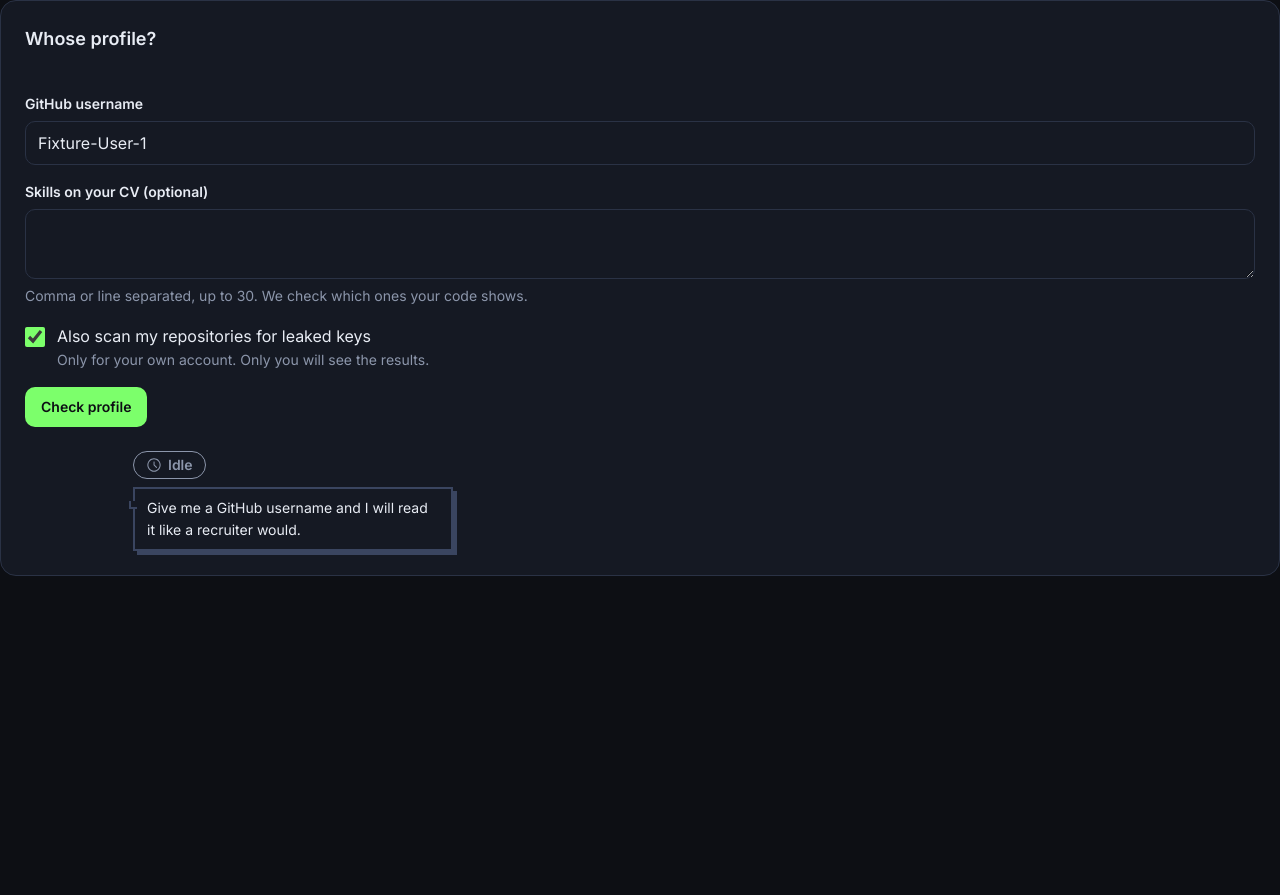
RecruiterTool › offers the secret scan only for the member’s own account and asks for it by default
Expected: the field labelled "GitHub username" holds "Fixture-User-1", [25,121,1255,165]
Expected: the checkbox labelled "Also scan my repositories" is checked, [25,327,45,347]
Type "React, Go" into the text box labelled "Skills on your CV (optional)".
click(640, 244); type("React, Go")  # box [25,209,1255,279]
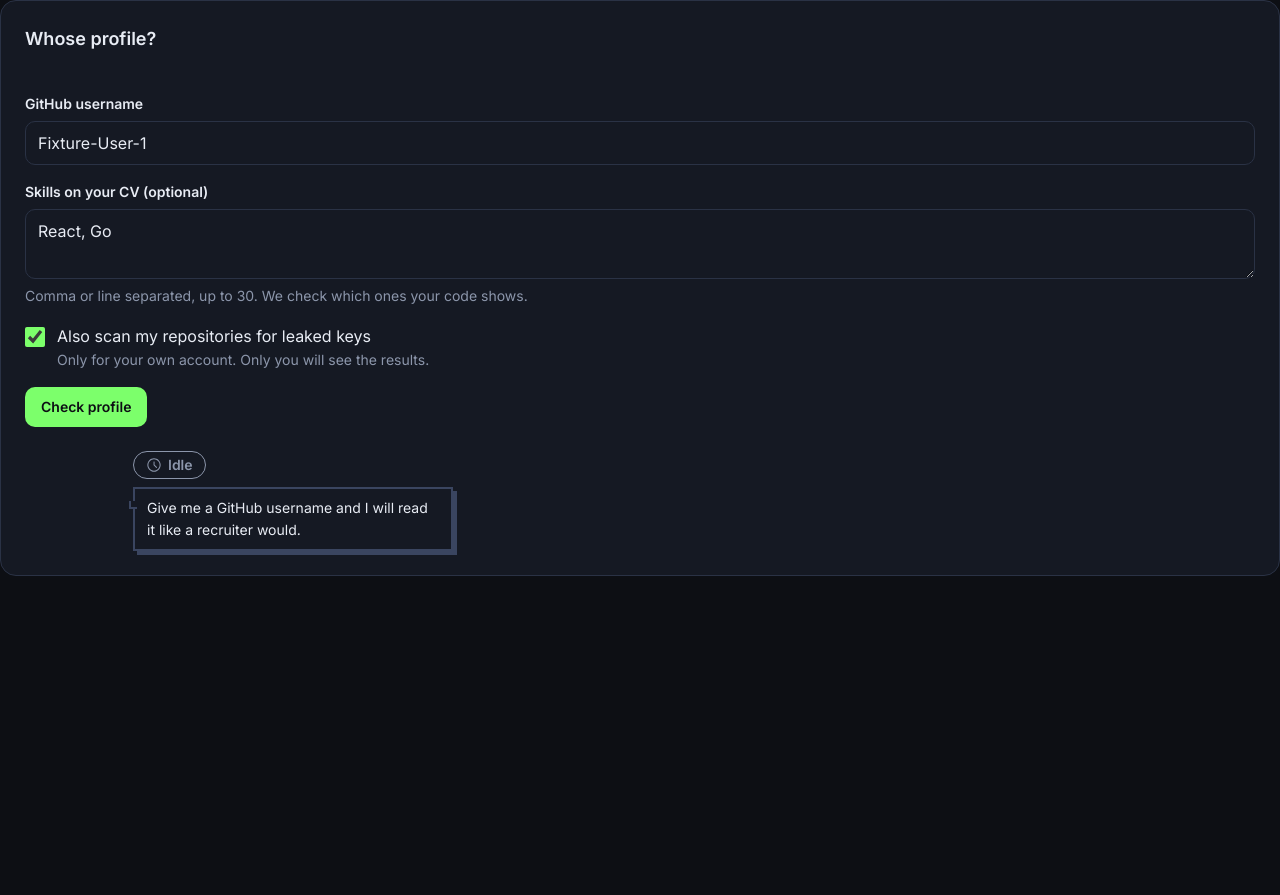
Click the button "Check profile".
click(86, 407)  # box [25,387,148,427]
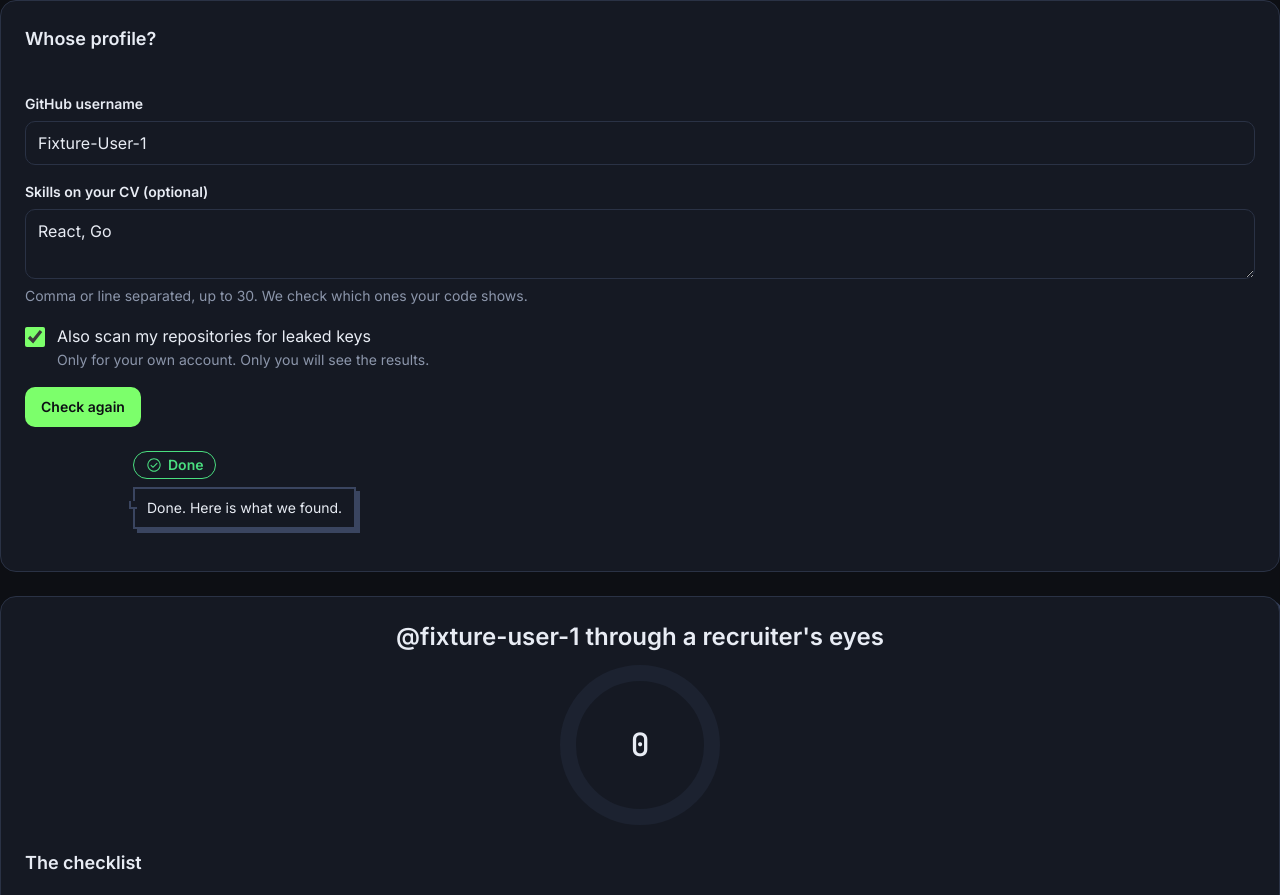
Replace the text in the field labelled "GitHub username" with "someone-else" at (640, 143), box [25,121,1255,165]
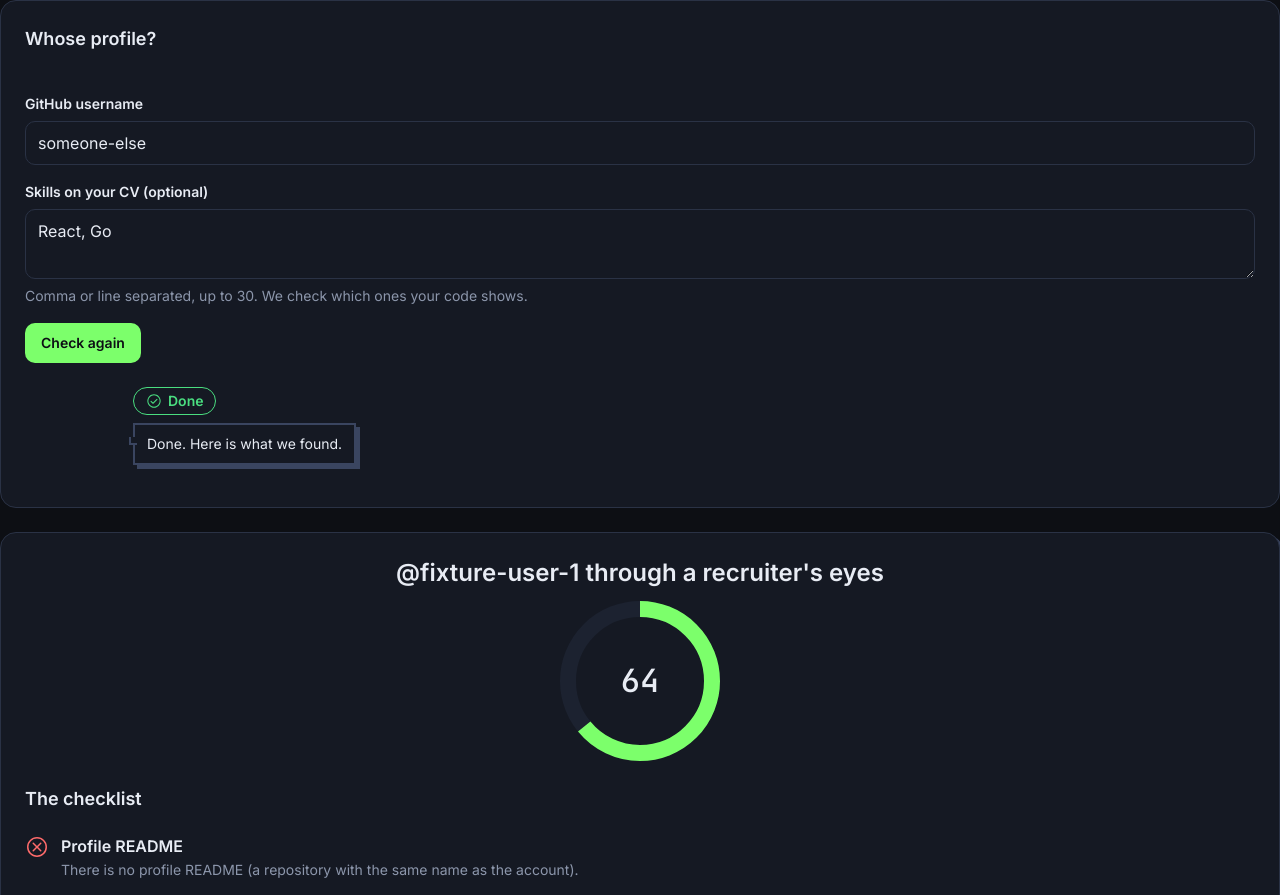
Now the checkbox is gone
